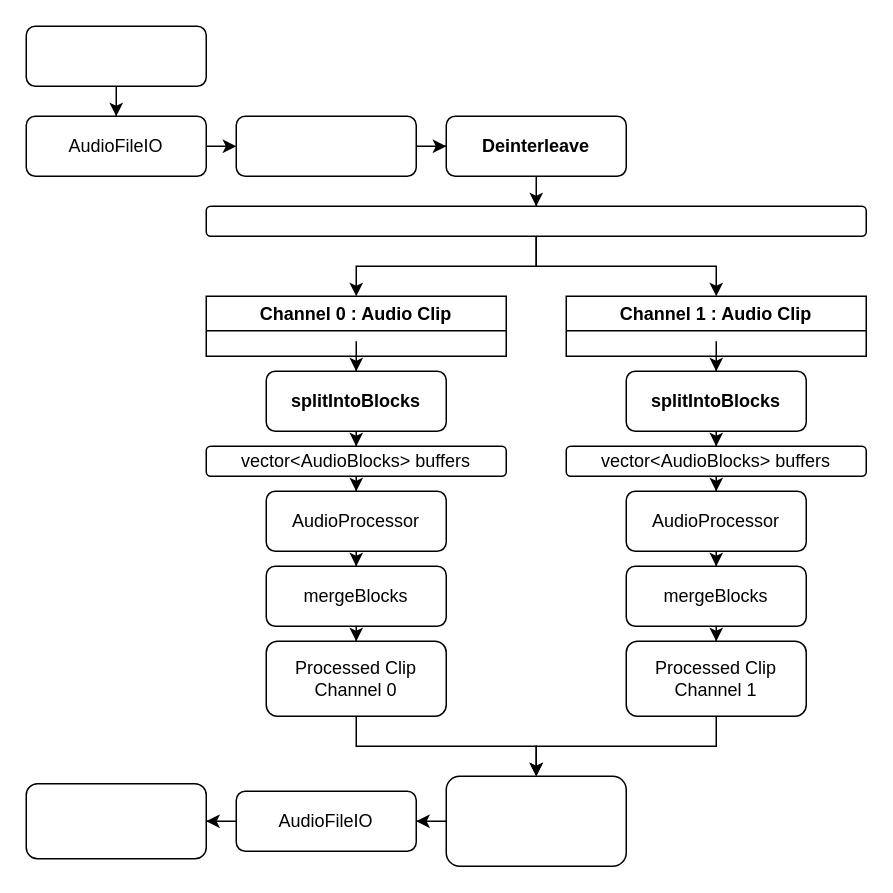
Some shapes in this 893 by 893 pixel diagram are drawn without their labels. Here are the shapes that lost their labels. From the top down, the centre of each, then its label:
the point at 115,55: input.wav
the point at 325,145: AudioClip
the point at 535,220: vector<AudioClip> deinterleavedClips
the point at 115,820: output.wav
the point at 535,820: Interleave
